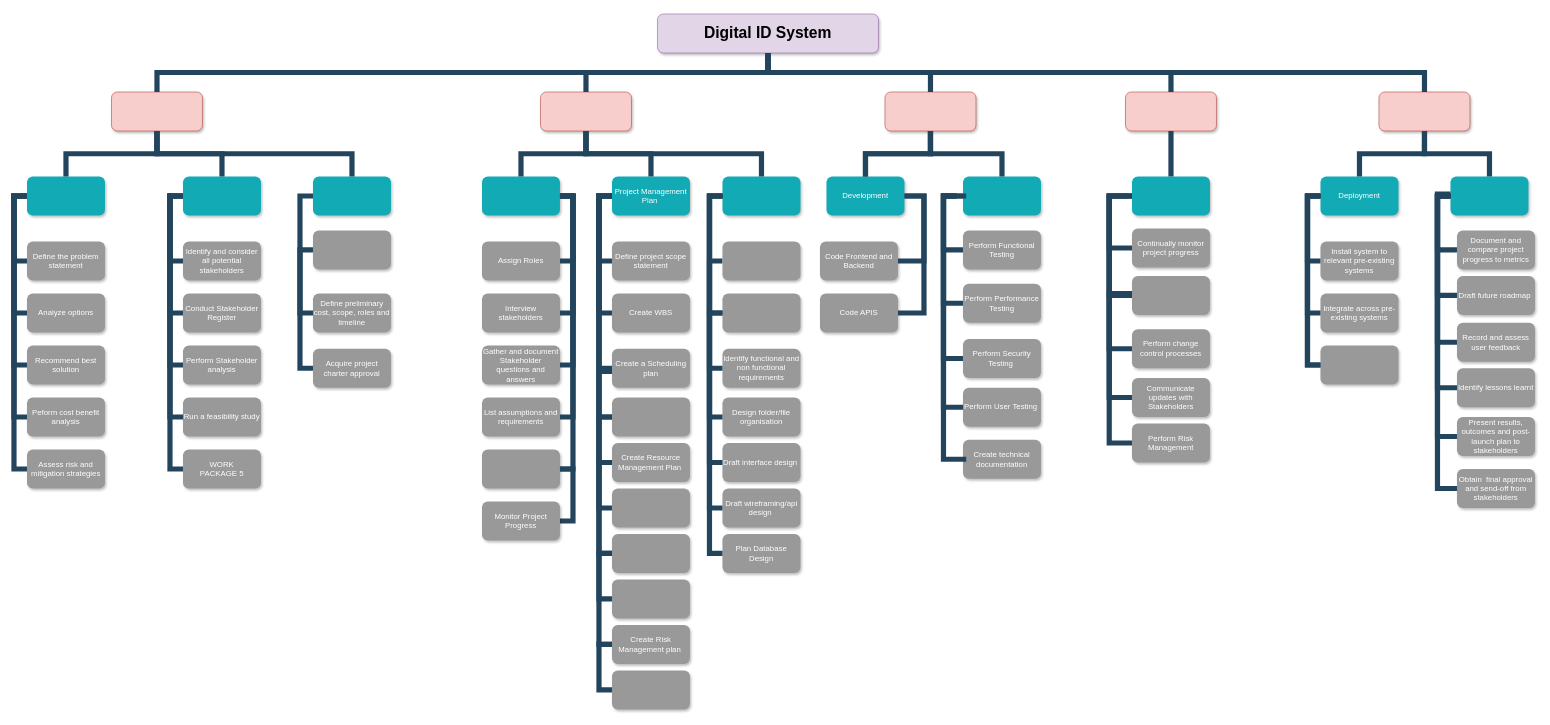
Some shapes in this 1550 by 725 pixel diagram are drawn without their labels. The centre of each missing label's shape, as x and y in pixels:
Acquire stakeholder approval: (521,470)
Business Case: (66,197)
Closing: (1425,112)
Closing Project Report: (1490,197)
Continous: (1171,197)
Create Communications Plan: (651,554)
Create Financial plan: (651,418)
Create Quality Management Plan: (651,509)
Create Stakeholder Management Plan: (651,600)
Define systems architecture: (762,314)
Define the project scope: (352,251)
Devise a systems overview: (762,262)
Execution: (931,112)
Initiation: (157,112)
Measure and log performance and KPIs: (1171,296)
Monitoring and Control: (1171,112)
Obtain Project Plan Approval: (651,691)
Organise and conduct student workshops: (1360,366)
Planning: (586,112)
Project Charter: (352,197)
Requirments Gathering: (521,197)
Stakeholder identifcation: (222,197)
Systems Design Planning: (762,197)
Testing: (1002,197)
